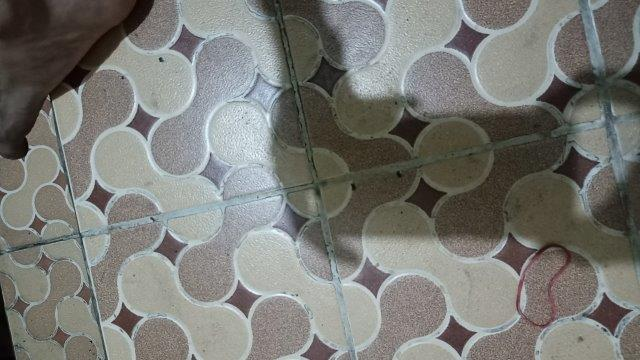karet: (515, 243, 571, 327)
